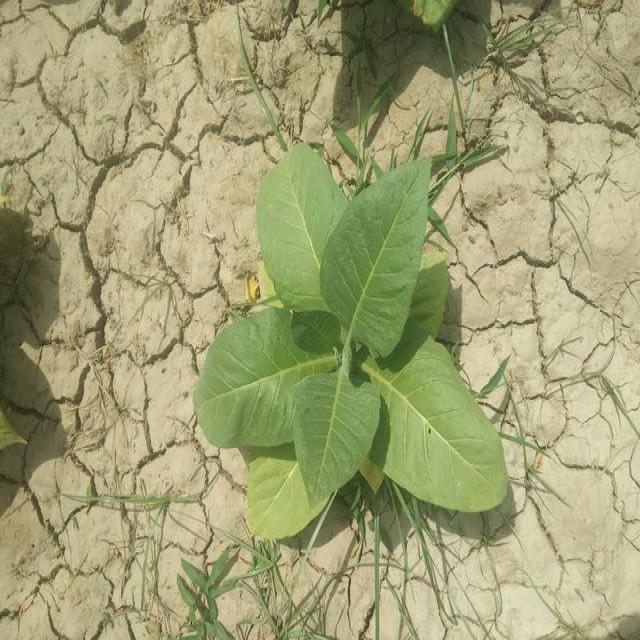crop: (192, 147, 514, 536), (404, 0, 450, 40), (0, 424, 32, 464)
